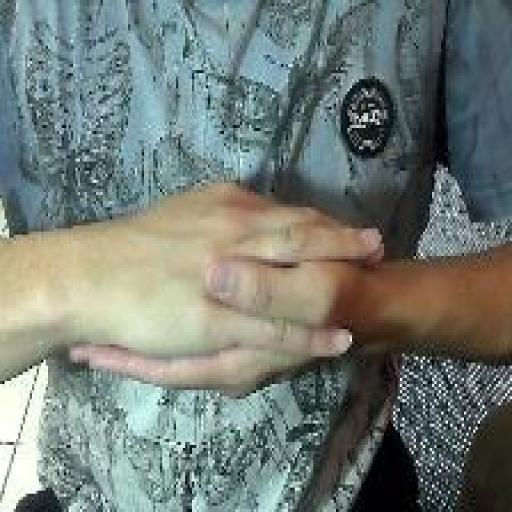Saru -monkey-: (65, 172, 390, 410)
